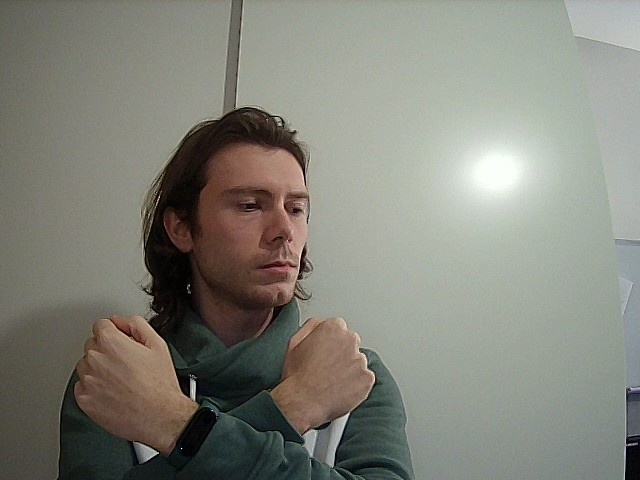del: (55, 309, 405, 480)
